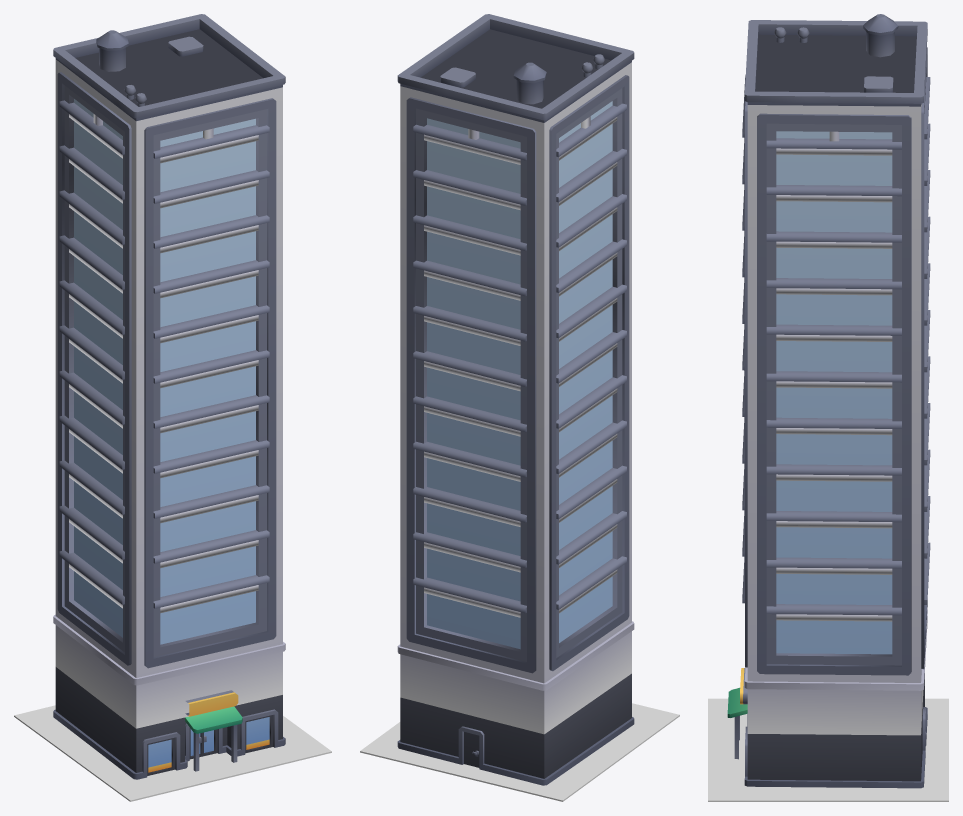
Rendered from skyscraper.glb.
3 views of the same model, side by side, from view 1: azimuth 30°, elevation 25°; view 2: azimuth 150°, elevation 25°; view 3: azimuth 270°, elevation 25° (orthographic). The views are drawn at different scales.
Parts seen in each view (by area): view 1: building-skyscraper-d, Cube; view 2: building-skyscraper-d, Cube; view 3: building-skyscraper-d, Cube.
Part boxes in pixels (x1,y1,x2,y2): building-skyscraper-d: (53, 14, 285, 779); Cube: (14, 705, 331, 801); building-skyscraper-d: (397, 14, 634, 785); Cube: (360, 703, 679, 801); building-skyscraper-d: (727, 14, 930, 788); Cube: (708, 698, 948, 801).
Size of the model in its own units: 30 by 98.56 by 30.
Materials: 2 (1 with a texture image).
